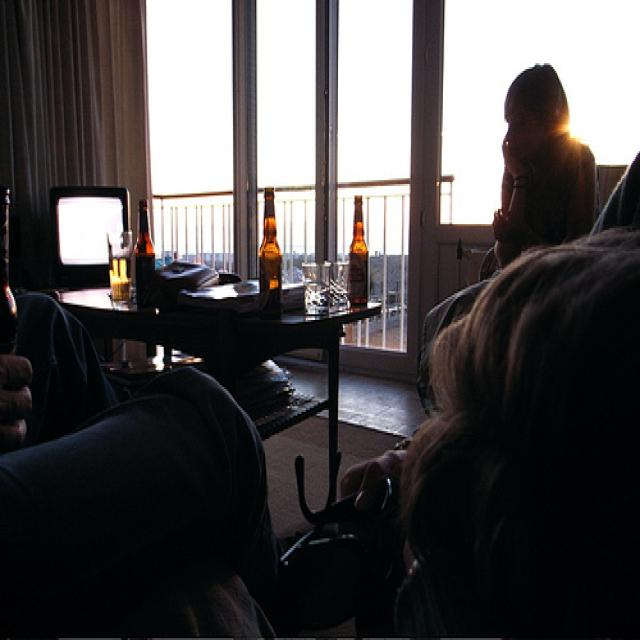Bottle: (351, 170, 384, 344), (259, 177, 282, 326), (132, 188, 166, 288)
Cup: (104, 214, 139, 319), (304, 243, 334, 328), (333, 240, 354, 336)
People: (480, 52, 609, 245)
Table: (12, 270, 415, 493)
